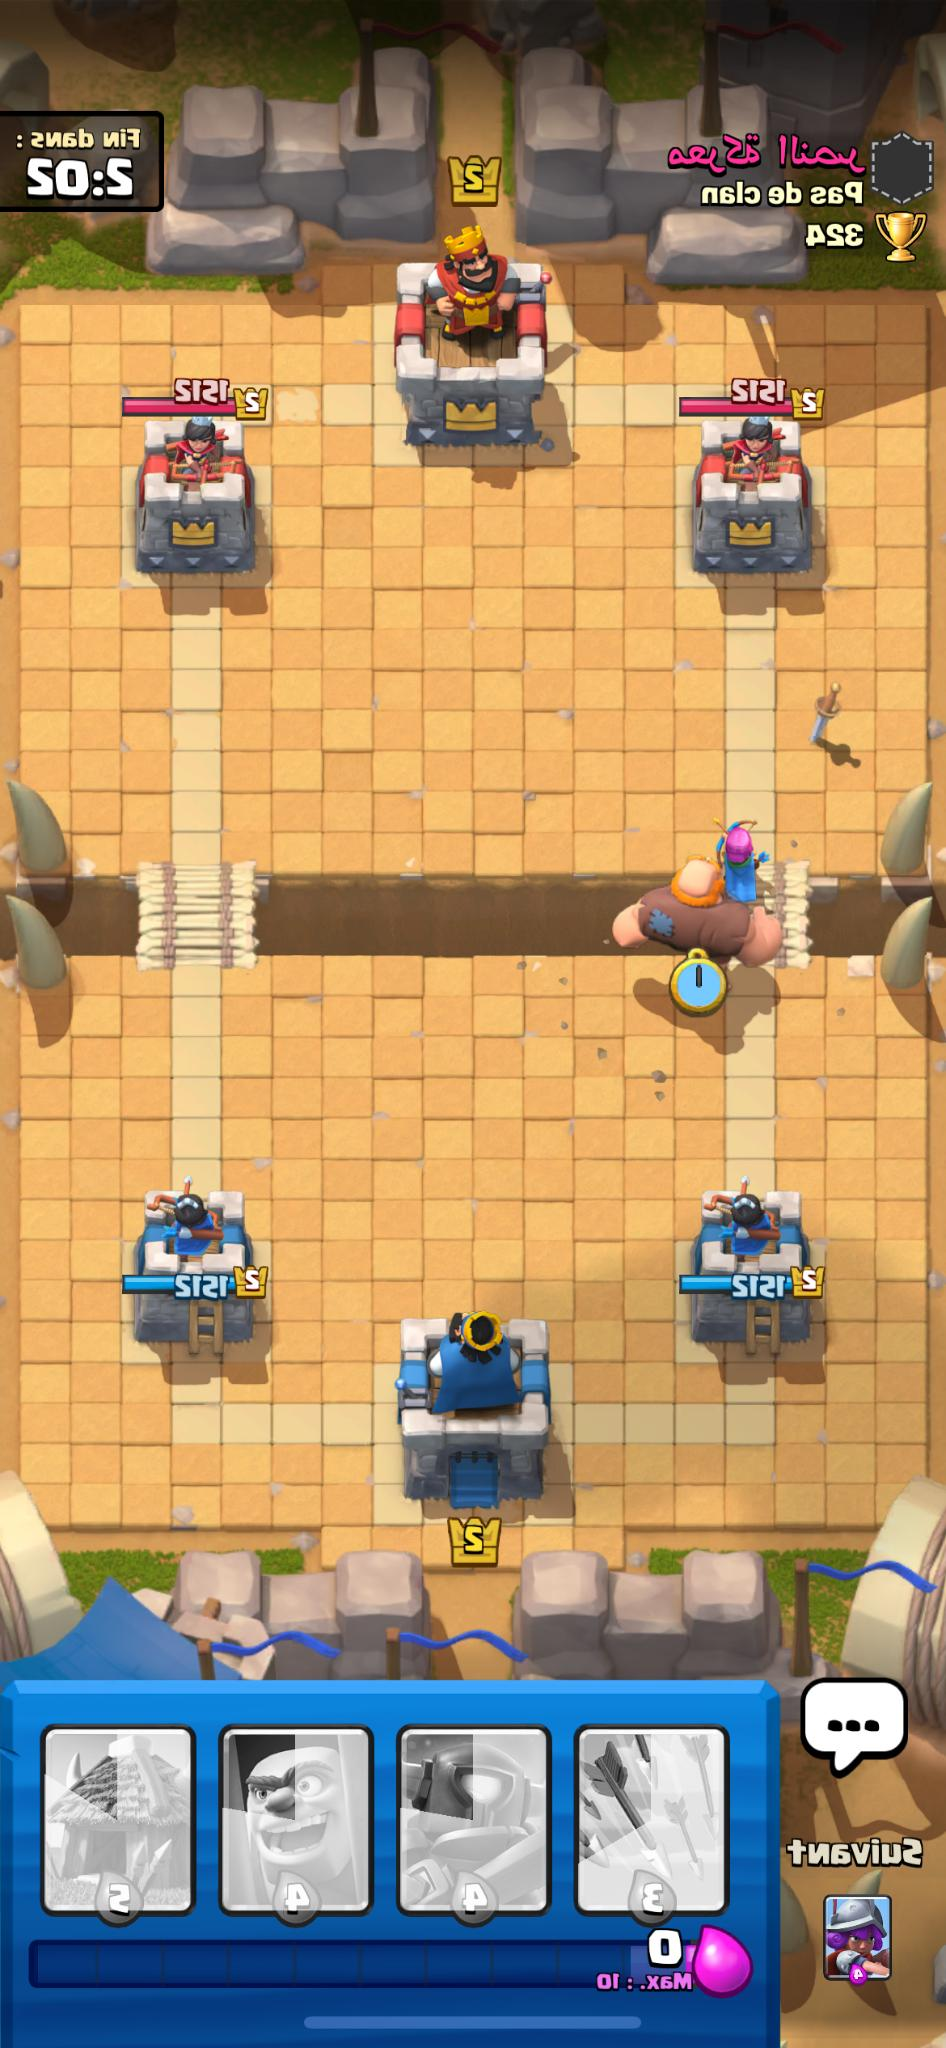archere: (698, 793, 784, 908)
geant: (591, 845, 794, 1006)
